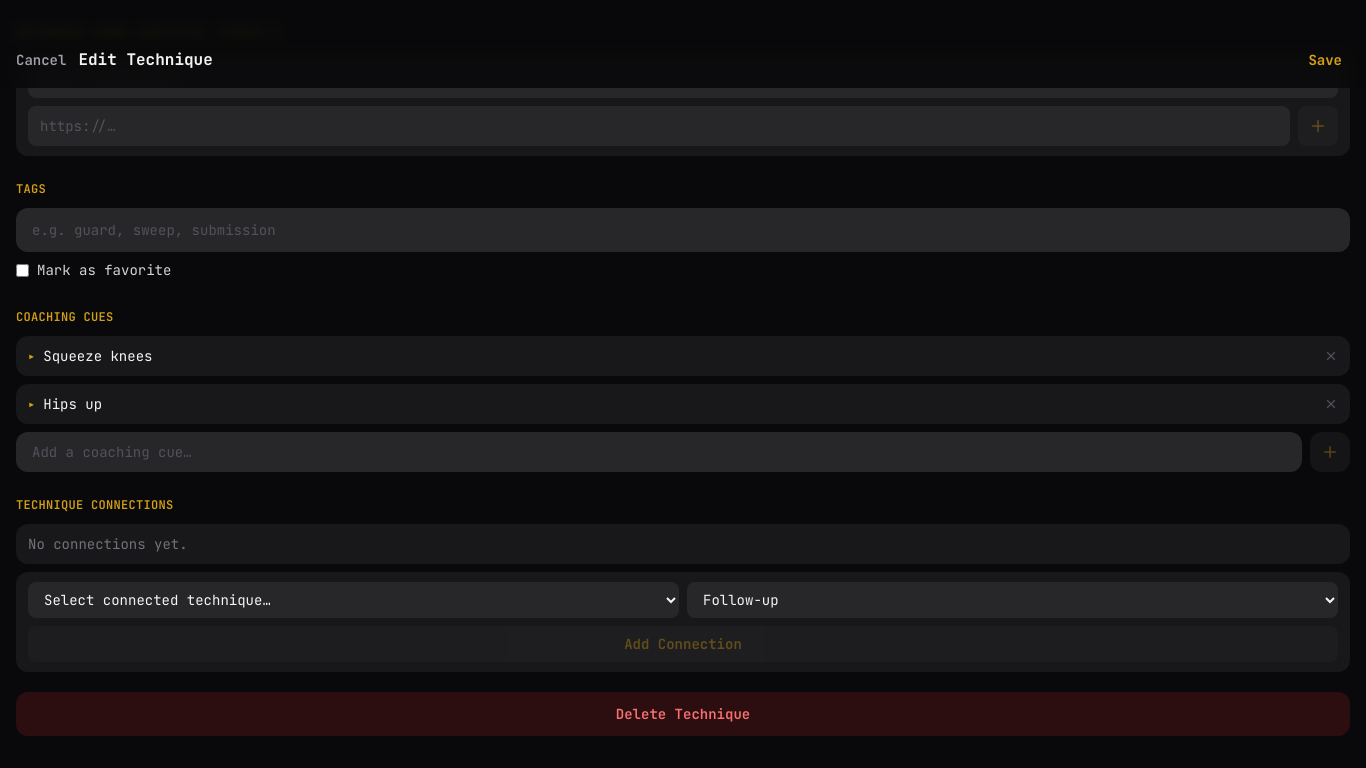
Test: TechniqueEditPage — edit existing technique › opens in-app delete modal showing technique name
(page scrolled)
Click the button "Delete Technique".
click(683, 714)  # box top-left (16, 692), bottom-right (1350, 736)
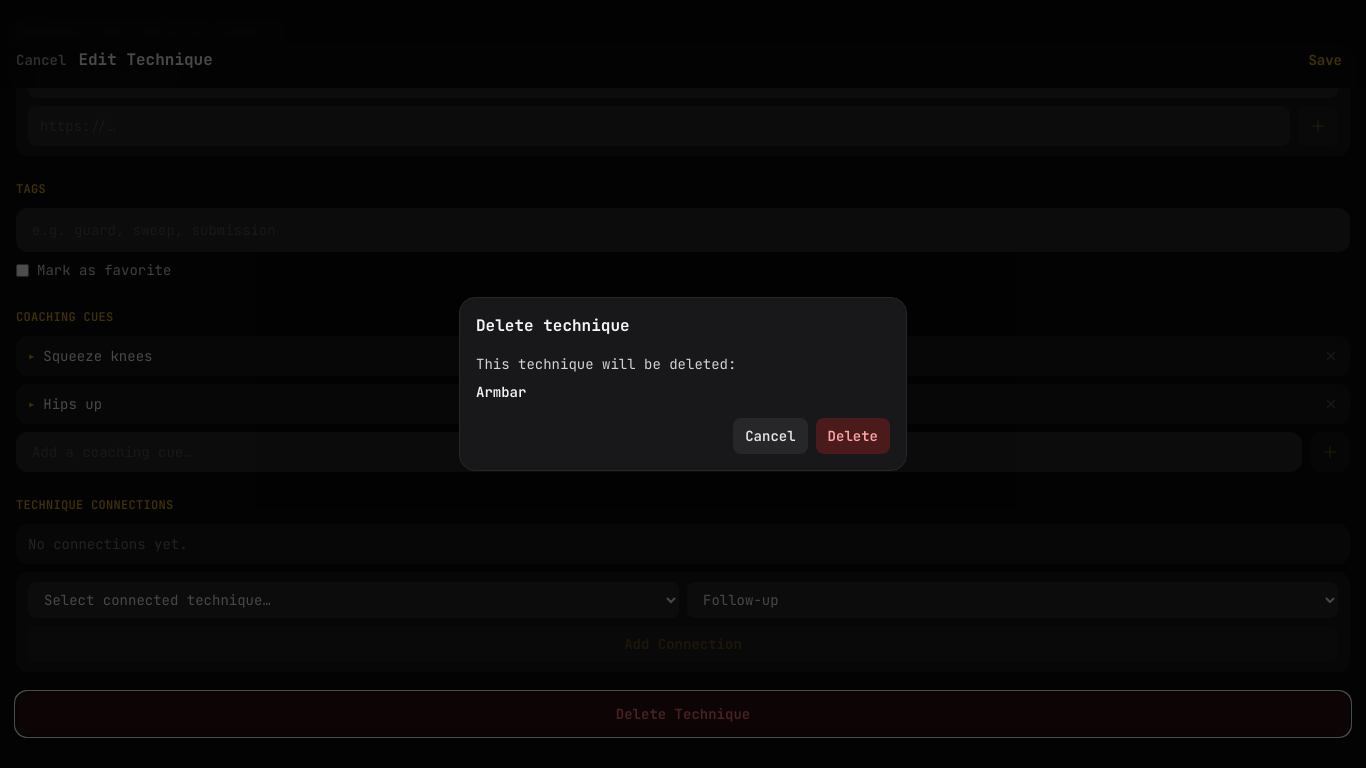
Expected: the heading "Delete technique" is shown, top-left (476, 315), bottom-right (630, 336)
Expected: the text "This technique will be deleted:" is shown, top-left (476, 355), bottom-right (736, 373)
Expected: the text "Armbar" is shown, top-left (476, 383), bottom-right (526, 401)
